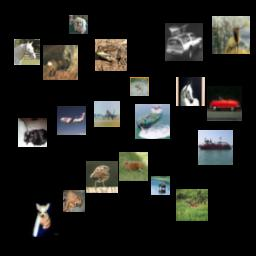airplane: (57, 106, 86, 135), (94, 101, 120, 127)
automobile: (165, 23, 203, 61), (207, 86, 242, 121)
bird: (86, 161, 118, 193)
cat: (18, 118, 47, 147)
deer: (212, 16, 250, 54), (43, 45, 78, 80), (176, 189, 208, 221), (151, 176, 170, 195), (130, 77, 149, 96)
dog: (24, 202, 59, 237), (119, 152, 148, 181), (63, 190, 85, 212), (69, 15, 88, 34)
frog: (95, 39, 127, 71)
ship: (135, 104, 170, 139), (198, 130, 233, 165)
